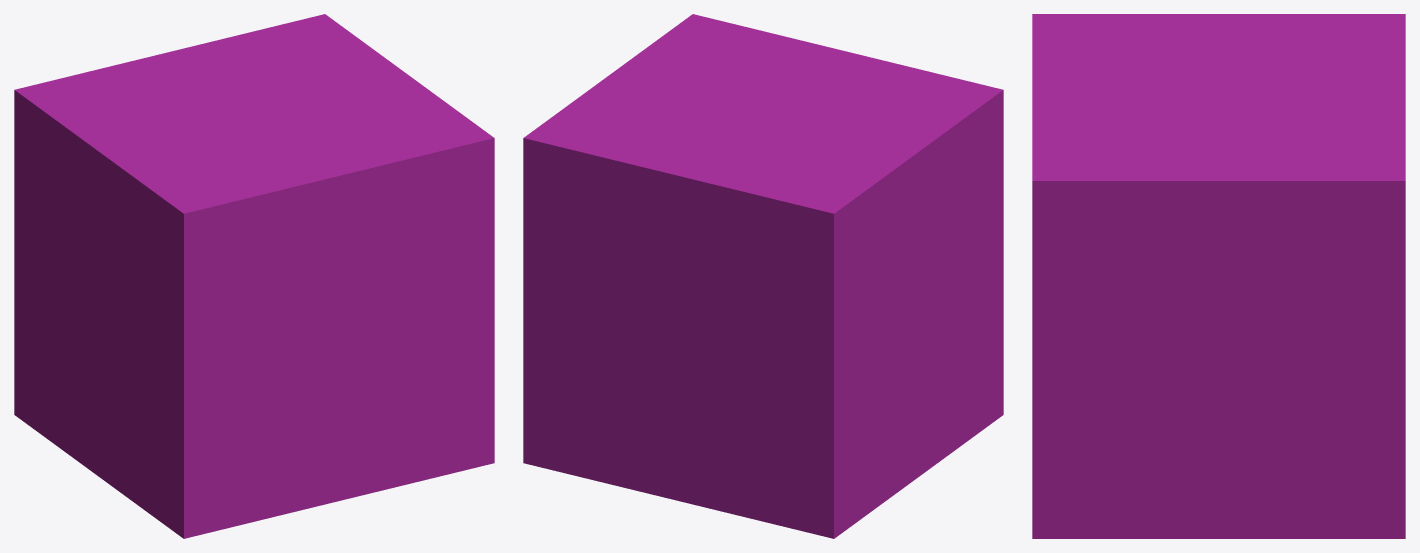
The model's file is border.glb.
3 renders of one model, left to right at view 1: azimuth 30°, elevation 25°; view 2: azimuth 150°, elevation 25°; view 3: azimuth 270°, elevation 25°, orthographic. The views are drawn at different scales.
Parts seen in each view (by area): view 1: Cube.001; view 2: Cube.001; view 3: Cube.001.
Part boxes in pixels (<box>): Cube.001: <box>14,14,494,538</box>; Cube.001: <box>523,14,1003,538</box>; Cube.001: <box>1032,14,1405,538</box>.
Size of what is drawn, in the model's own units: 31.8 by 31.8 by 30.04.
